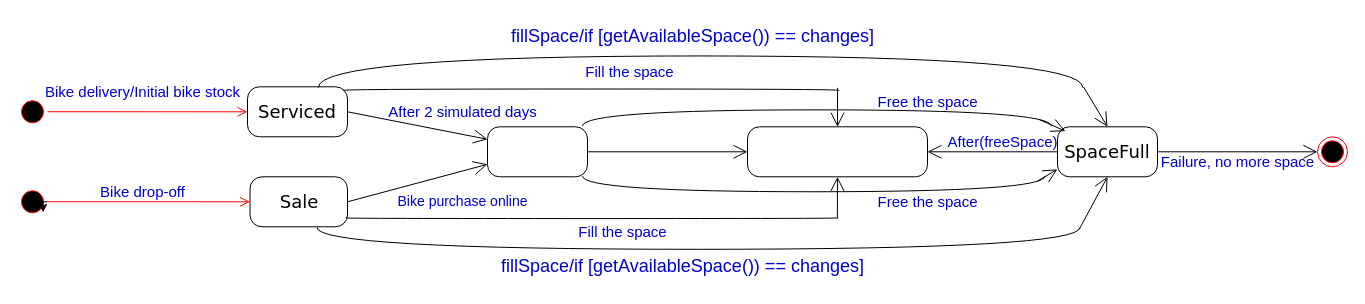
Image size: 1365x304. Some labels were removed from this diagram. The centre of each missing label's shape, as x and y in pixels:
PickUp: the point at 537,151
SpaceAvailable: the point at 837,151
